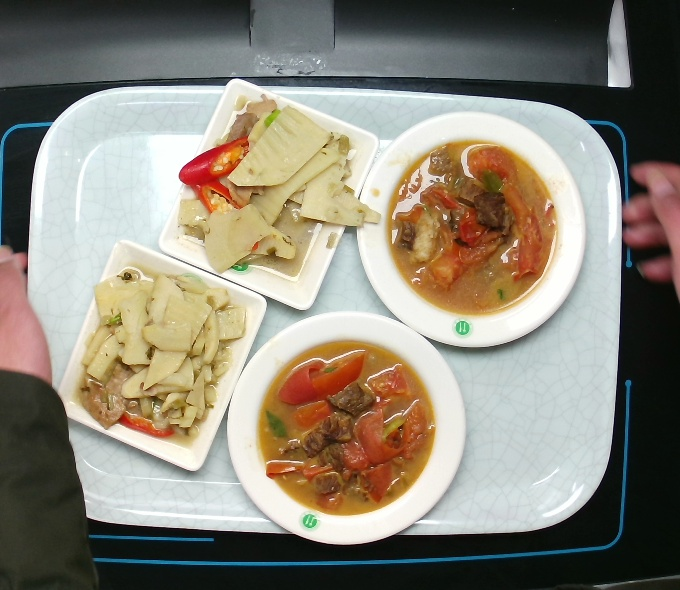wcq-DongSun: (169, 91, 381, 296), (71, 253, 263, 444)
wcq-FanQiwNiuRou: (257, 332, 442, 513), (386, 136, 560, 311)
